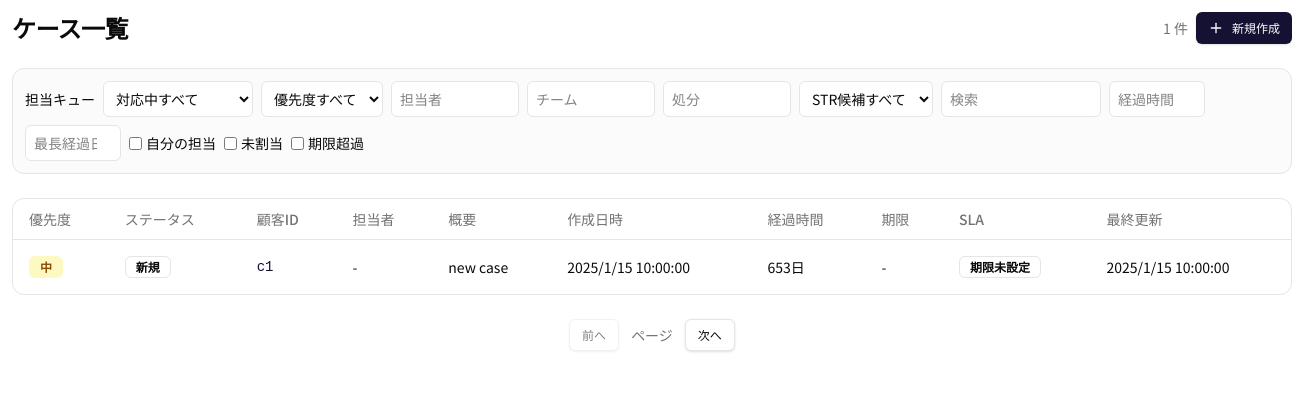
Scenario: loads a case from the second cursor page
Expected: the text "new case" is shown, [432, 239, 551, 294]
Click the button "次へ".
click(710, 334)  # box [685, 318, 735, 350]
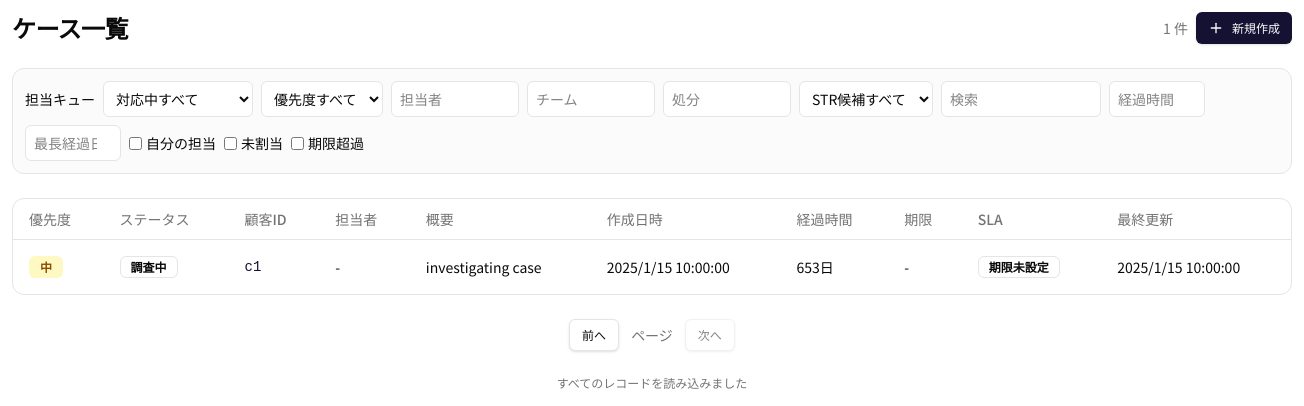
Expected: the text "investigating case" is shown, [410, 239, 591, 294]
